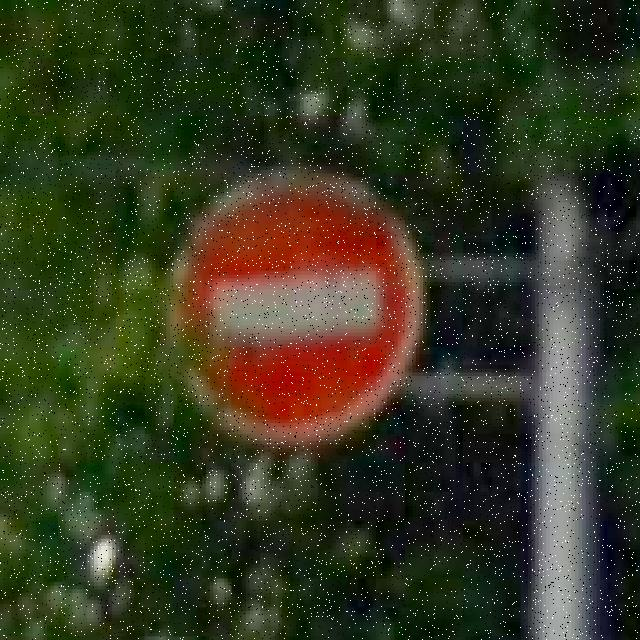Zakaz wjazdu: (166, 162, 426, 444)
